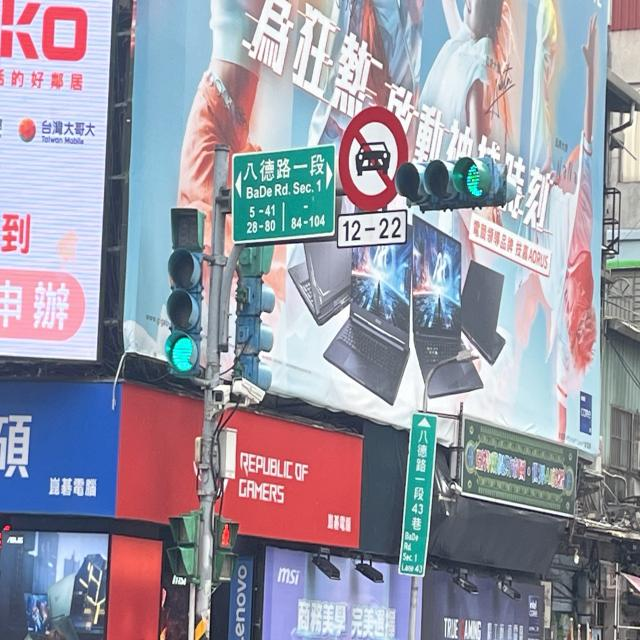green light: (167, 207, 205, 378), (398, 160, 508, 212)
